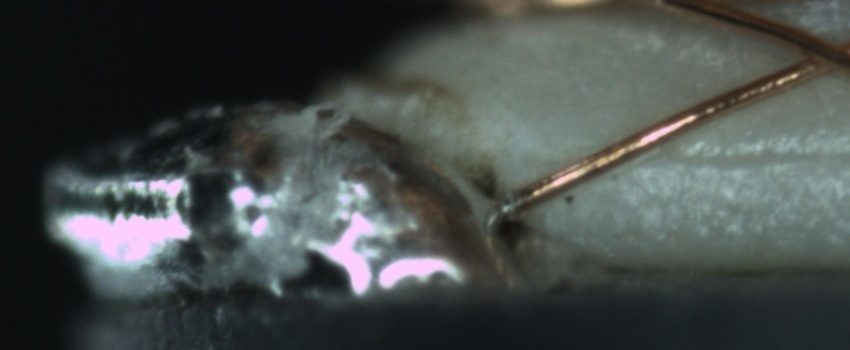CL: (776, 25, 848, 85)
DL: (614, 123, 848, 191)
